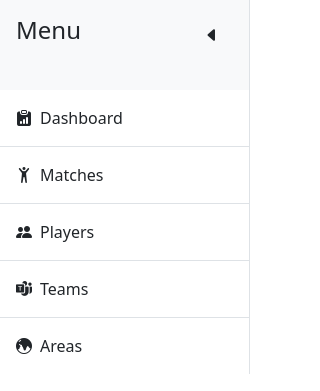
SideNav › toggles the sidebar collapse state
The image size is (320, 391).
Note: Click the toggle button to collapse the sidebar
Click the button: {"x": 212, "y": 35} x1=191 y1=16 x2=233 y2=54
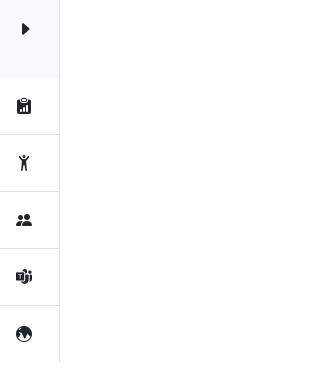
Now the text "Menu" is gone
Note: Click the toggle button again to expand the sidebar
Click the button: {"x": 25, "y": 29} x1=16 y1=16 x2=34 y2=42
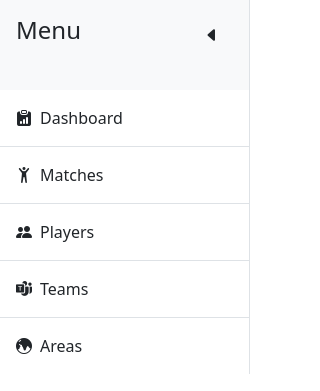
Now the text "Menu" is shown, box x1=16 y1=16 x2=81 y2=66
